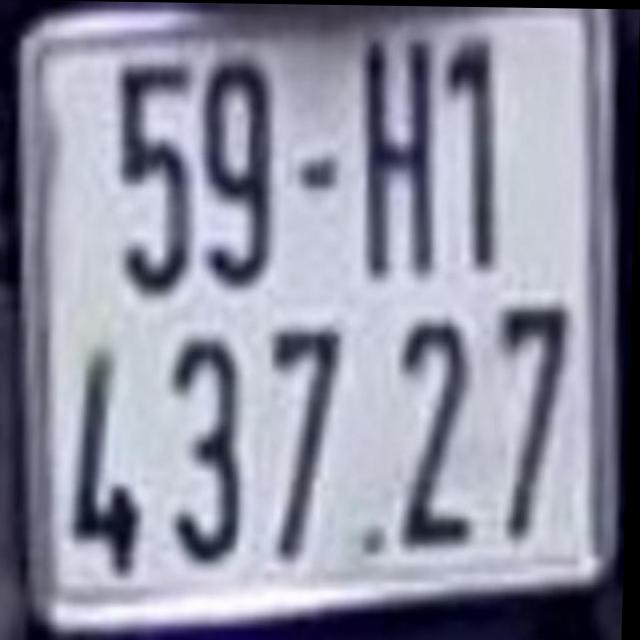1: (447, 29, 509, 268)
2: (397, 317, 476, 549)
3: (167, 336, 256, 553)
4: (70, 347, 159, 572)
5: (116, 58, 198, 284)
7: (491, 299, 580, 543), (267, 322, 344, 564)
9: (202, 53, 278, 283)
H: (352, 30, 444, 269)
